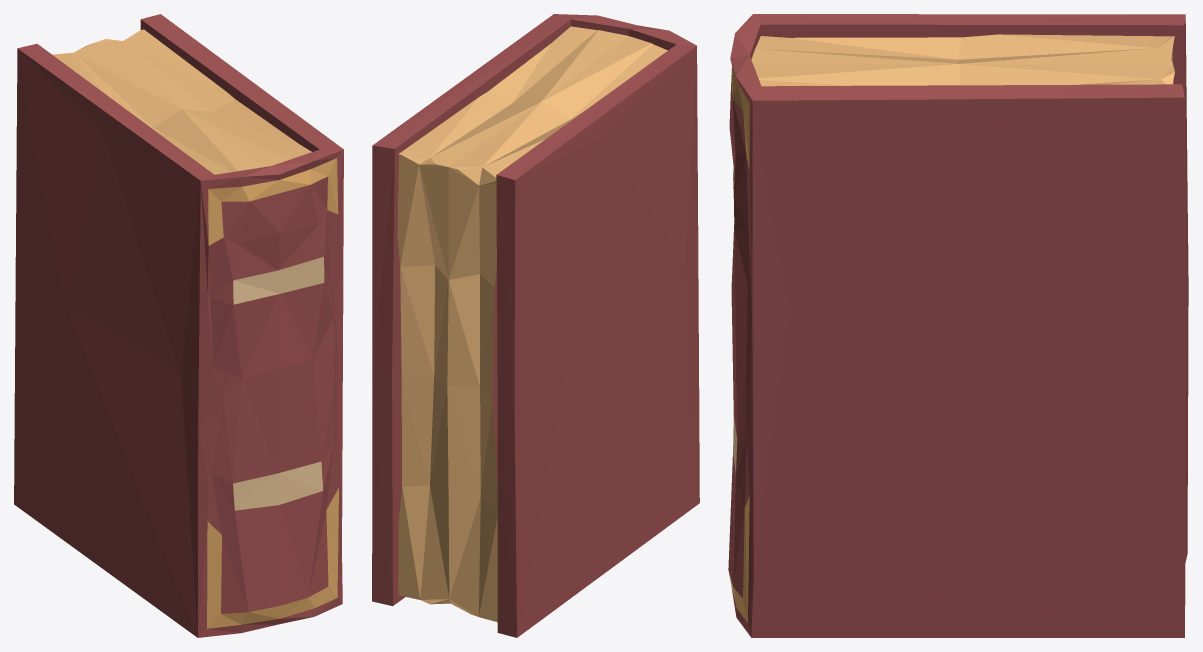
Rendered from SFHW_Book_006.fbx.
3 renders of one model, left to right at view 1: azimuth 30°, elevation 25°; view 2: azimuth 150°, elevation 25°; view 3: azimuth 270°, elevation 25°, orthographic. The views are drawn at different scales.
Visible parts, largest first — view 1: SFHW_Book_006; view 2: SFHW_Book_006; view 3: SFHW_Book_006.
Boxes of the visible parts, <box> form: SFHW_Book_006: <box>14,14,343,637</box>; SFHW_Book_006: <box>372,14,699,637</box>; SFHW_Book_006: <box>728,14,1188,637</box>.
Size of the model in its own units: 10.6 by 31.53 by 24.18.
